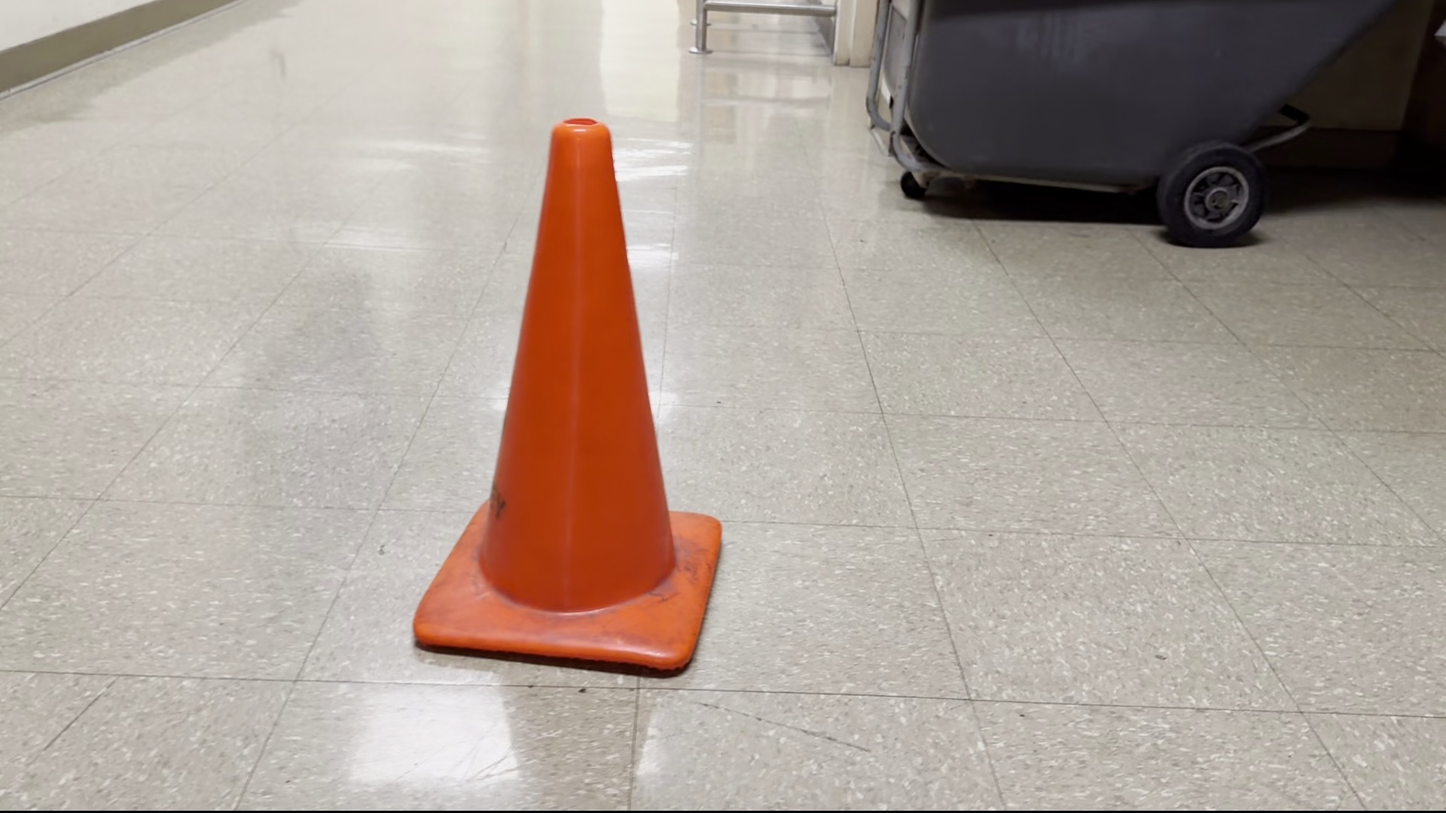traffic_cone: (412, 116, 723, 674)
